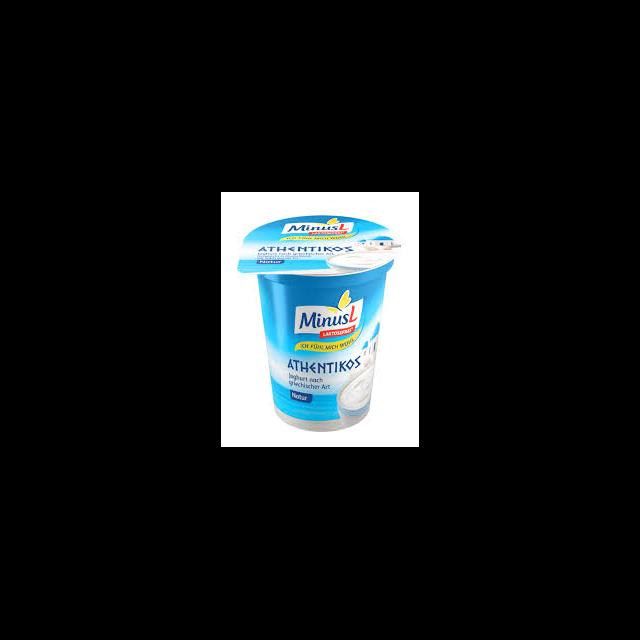plastic: (236, 214, 401, 432)
